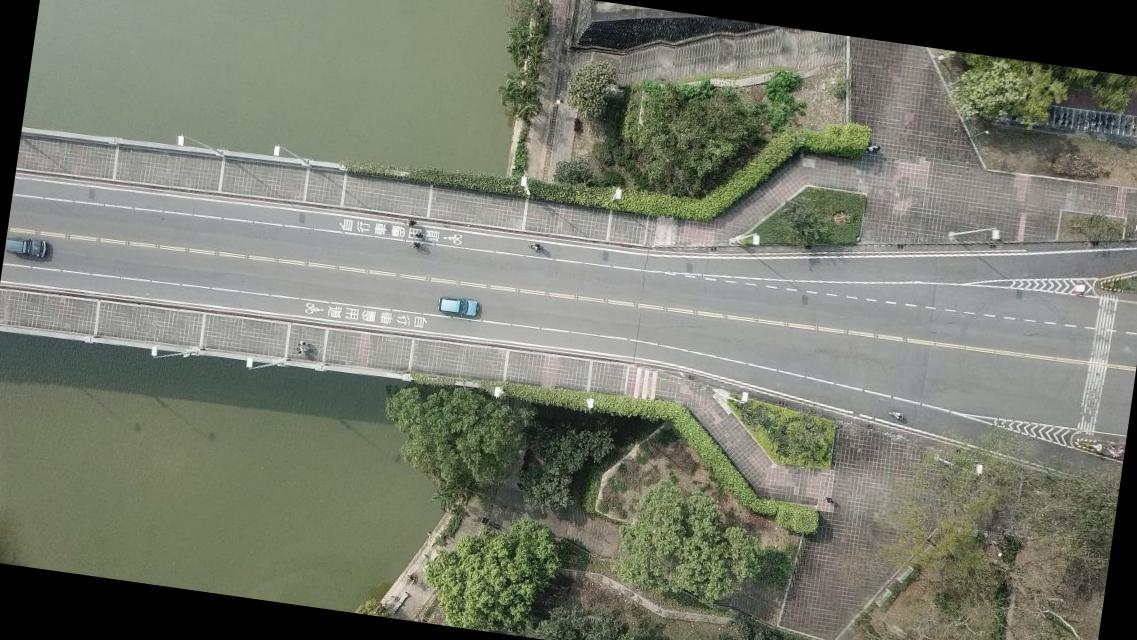vehicle: (4, 235, 49, 261), (436, 296, 480, 318)
